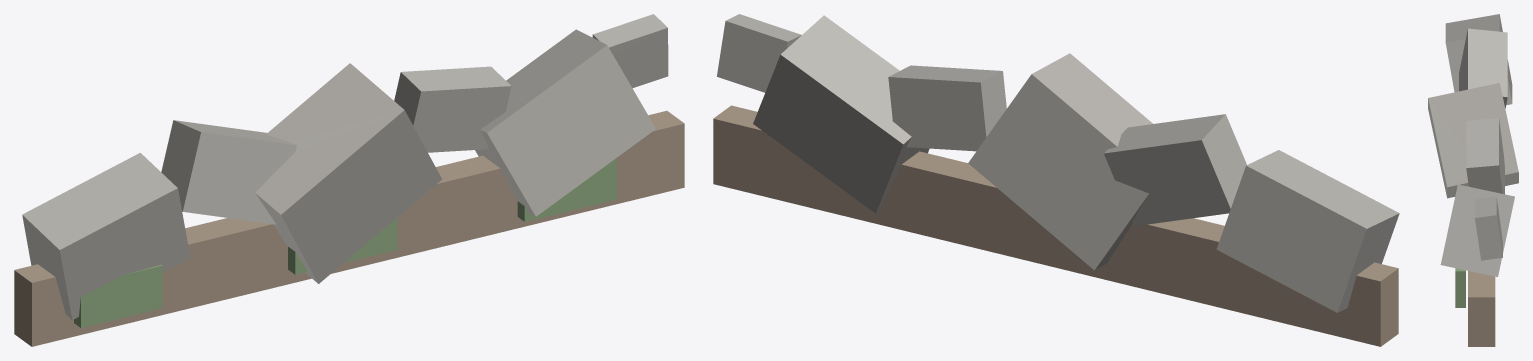
Rendered from r-13-prygl-granite-outcrops.glb.
3 views of the same model, side by side, from view 1: azimuth 30°, elevation 25°; view 2: azimuth 150°, elevation 25°; view 3: azimuth 270°, elevation 25° (orthographic). The views are drawn at different scales.
Parts seen in each view (by area): view 1: rock, soil-bank, moss; view 2: rock, soil-bank; view 3: rock, soil-bank, moss.
Boxes of the visible parts, box(x1,y1,x2,y2) form: rock: box(22, 14, 668, 320); soil-bank: box(14, 110, 684, 346); moss: box(74, 158, 616, 327); rock: box(717, 14, 1399, 312); soil-bank: box(713, 105, 1398, 346); rock: box(1428, 14, 1518, 276); soil-bank: box(1468, 186, 1495, 346); moss: box(1455, 189, 1465, 307).
Bounding box in the file's own units: 32000 × 8728 × 4952.
